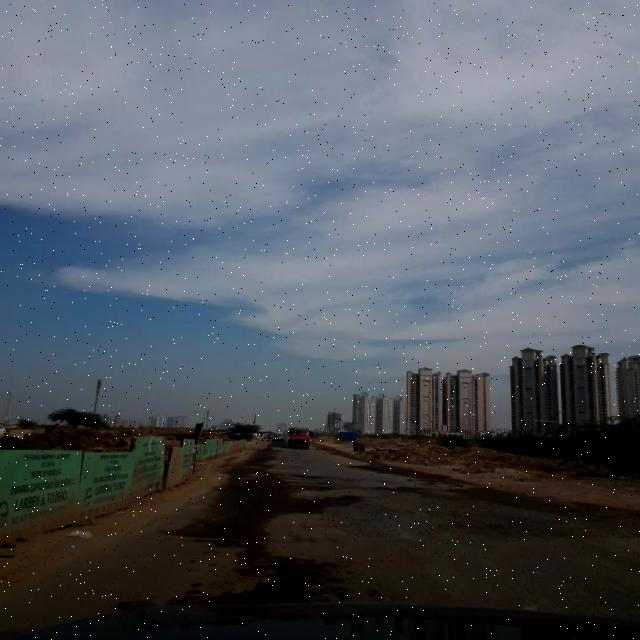D40: (267, 473, 633, 547)
